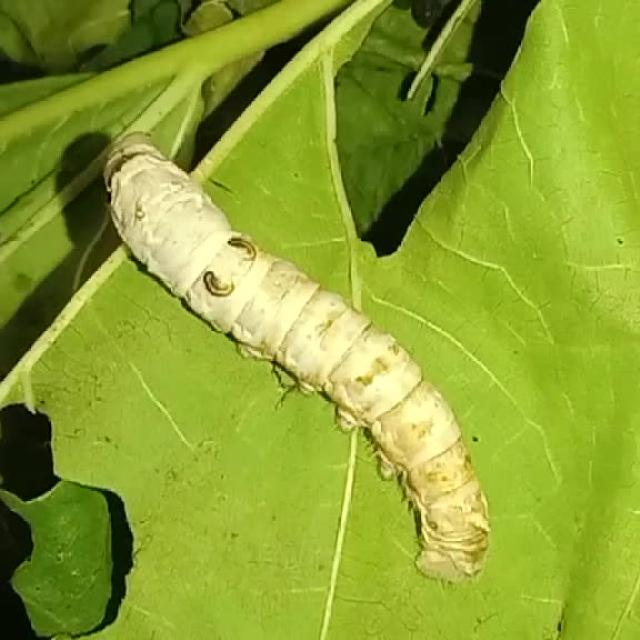Grasserie: (78, 123, 518, 610)
